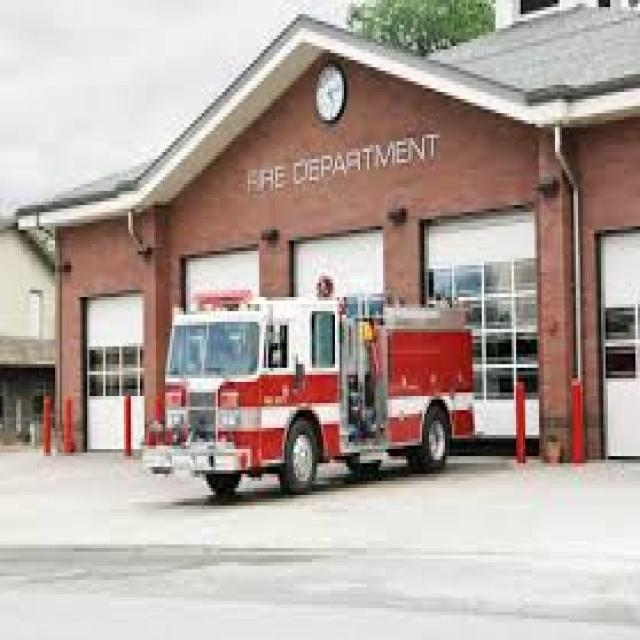Fire_brigade: (151, 276, 498, 516)
